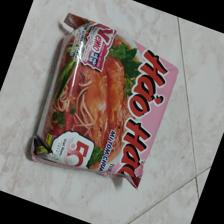Haohao: (24, 9, 181, 195)
